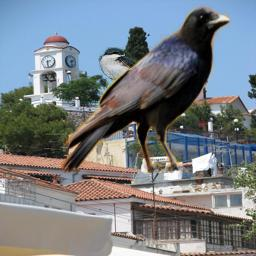Crow: (61, 4, 230, 173)
Swallow: (98, 46, 156, 97)
